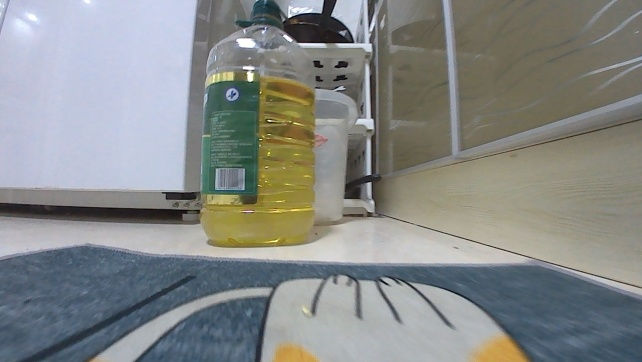blanket: (0, 237, 641, 361)
cupboard1: (365, 0, 641, 289)
